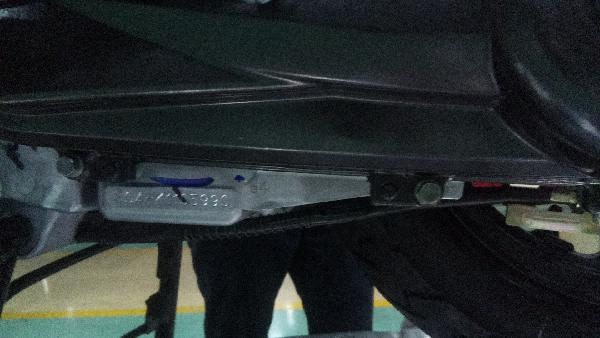box: (116, 190, 229, 208)
